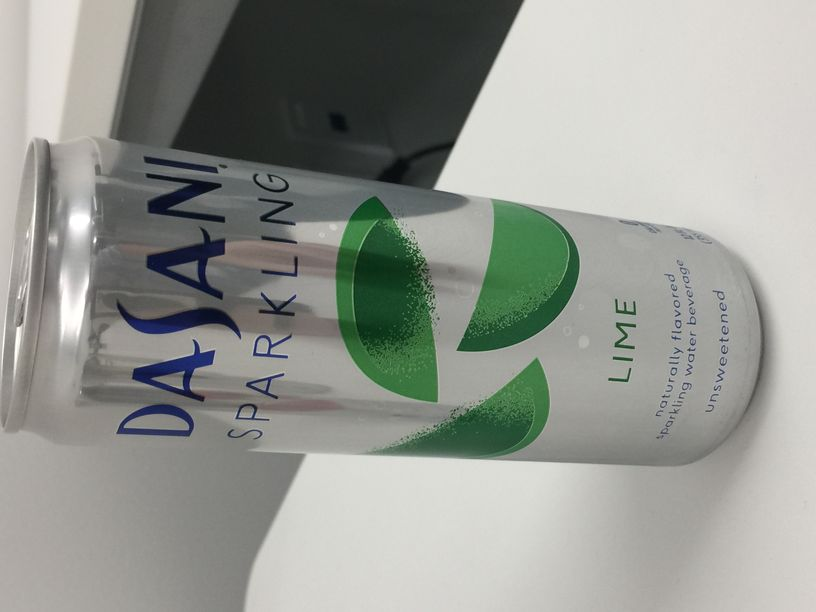lime: (4, 131, 766, 483)
